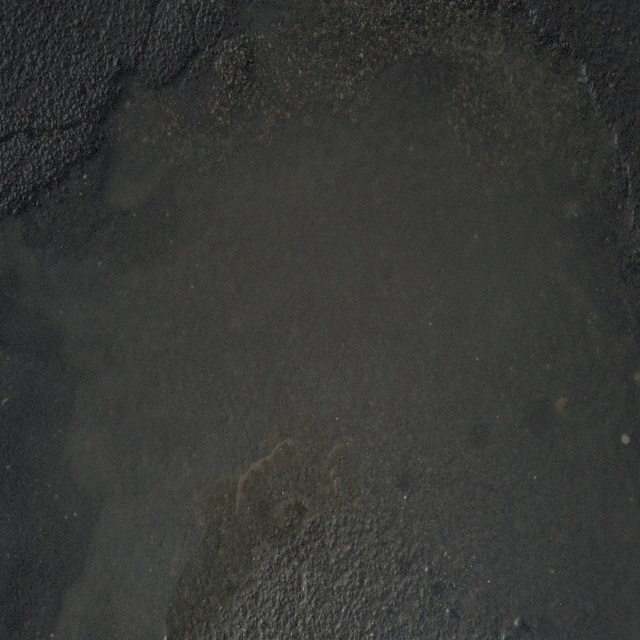pothole: (66, 25, 615, 455)
